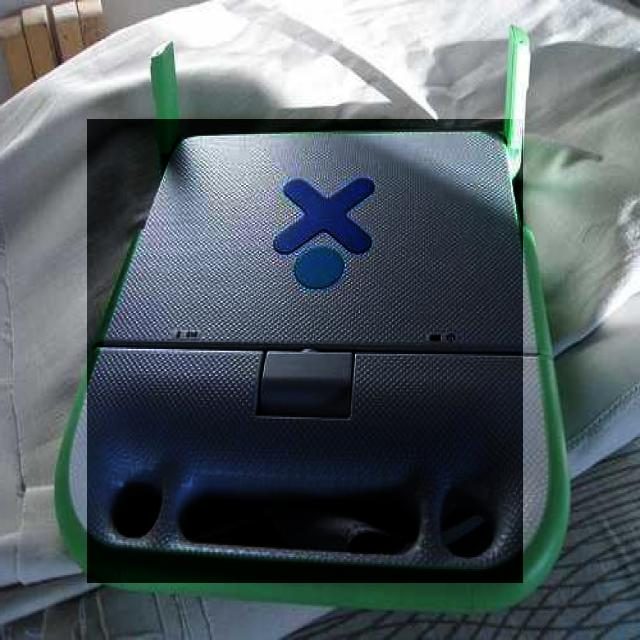-keyboard-: (88, 120, 524, 584)
